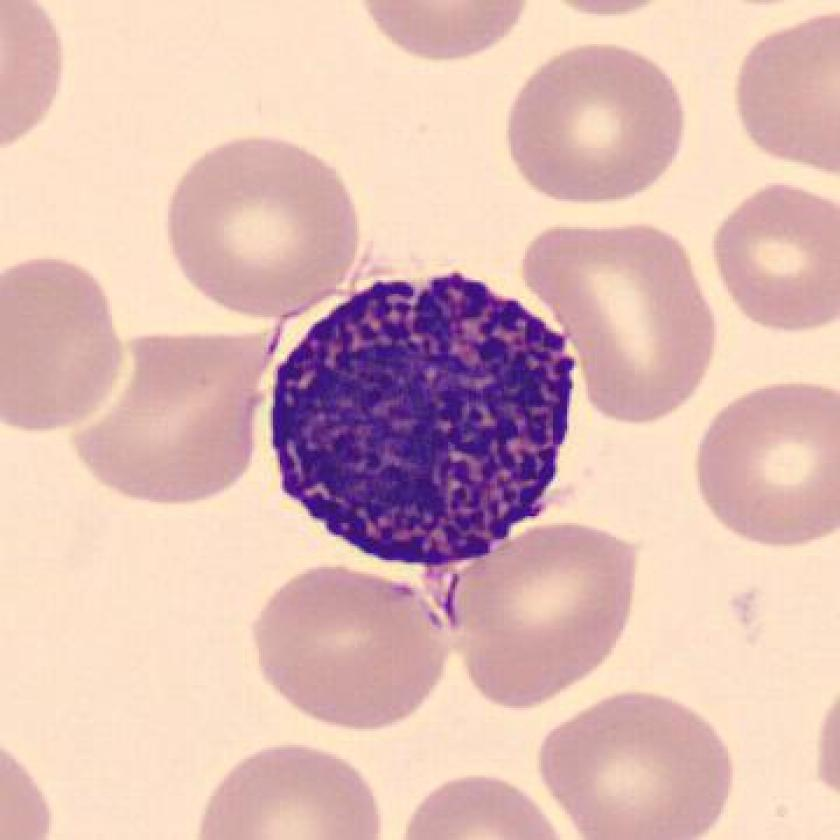basophil: (260, 263, 587, 573)
